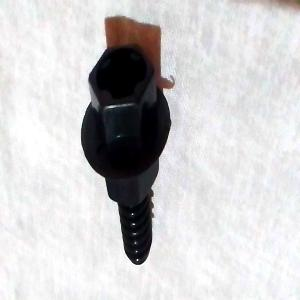parafuso: (80, 42, 172, 266)
